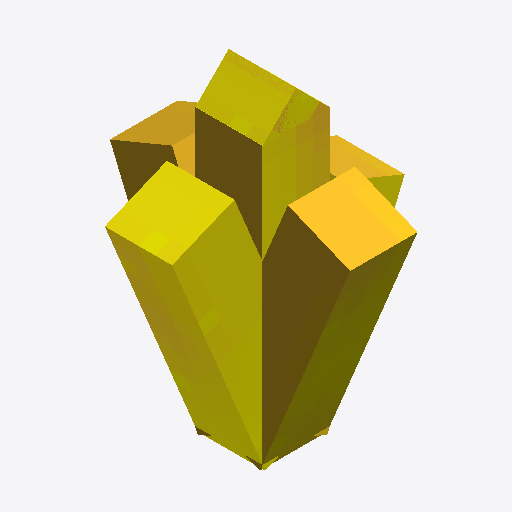
Isometric view (azimuth 45°, elevation 35.3°) of a Minecraft model made of 7 cuboids, textured from the same repository.
Parts seen in each view (by area): A (×5), A Point A, A Point B.
Boxes of the visible parts, <box> form: A (×5): <box>105,69,416,469</box>; A Point A: <box>195,49,319,146</box>; A Point B: <box>213,50,328,133</box>.
Bounding box in the file's own units: 6.9 × 9.37 × 7.13.